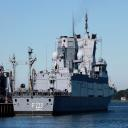Fragata: (11, 9, 119, 119)
